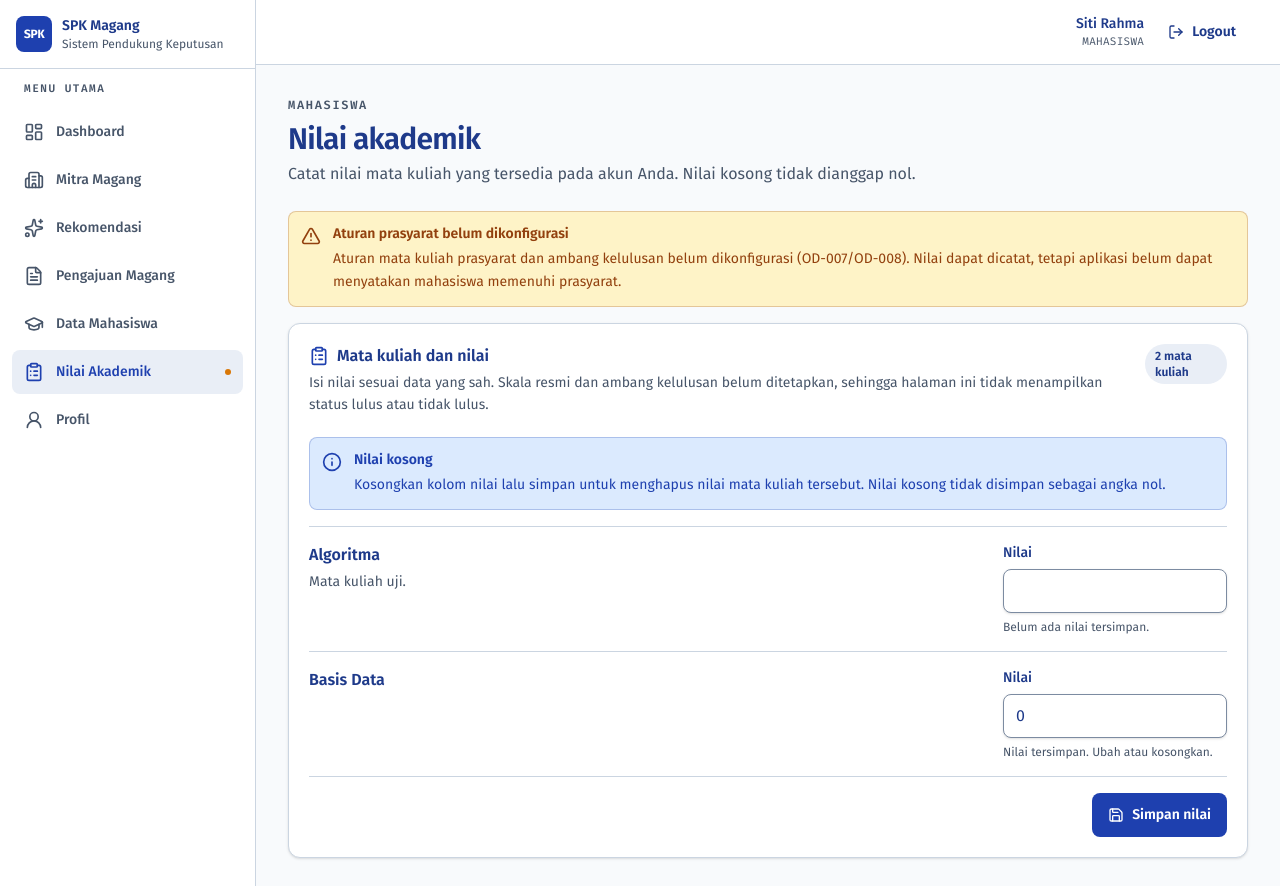
Test: StudentGradesPage › menolak nilai tidak valid sebelum memanggil API
In the number field labelled "Nilai" in the row of "Mata kuliah uji.": [1115, 591] box [1003,569,1227,613], type "101"
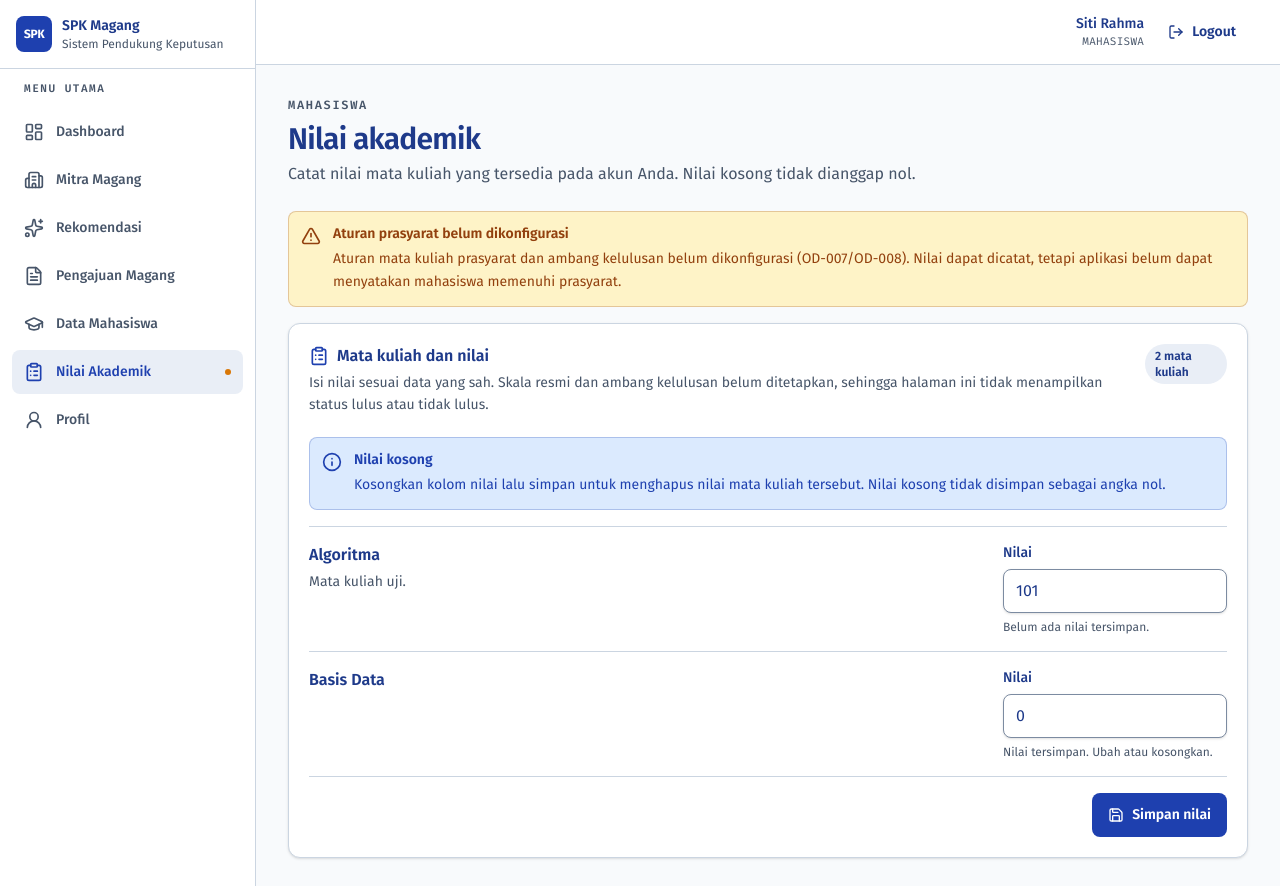
Click the button "Simpan nilai": [1160, 815] box [1092,793,1227,837]
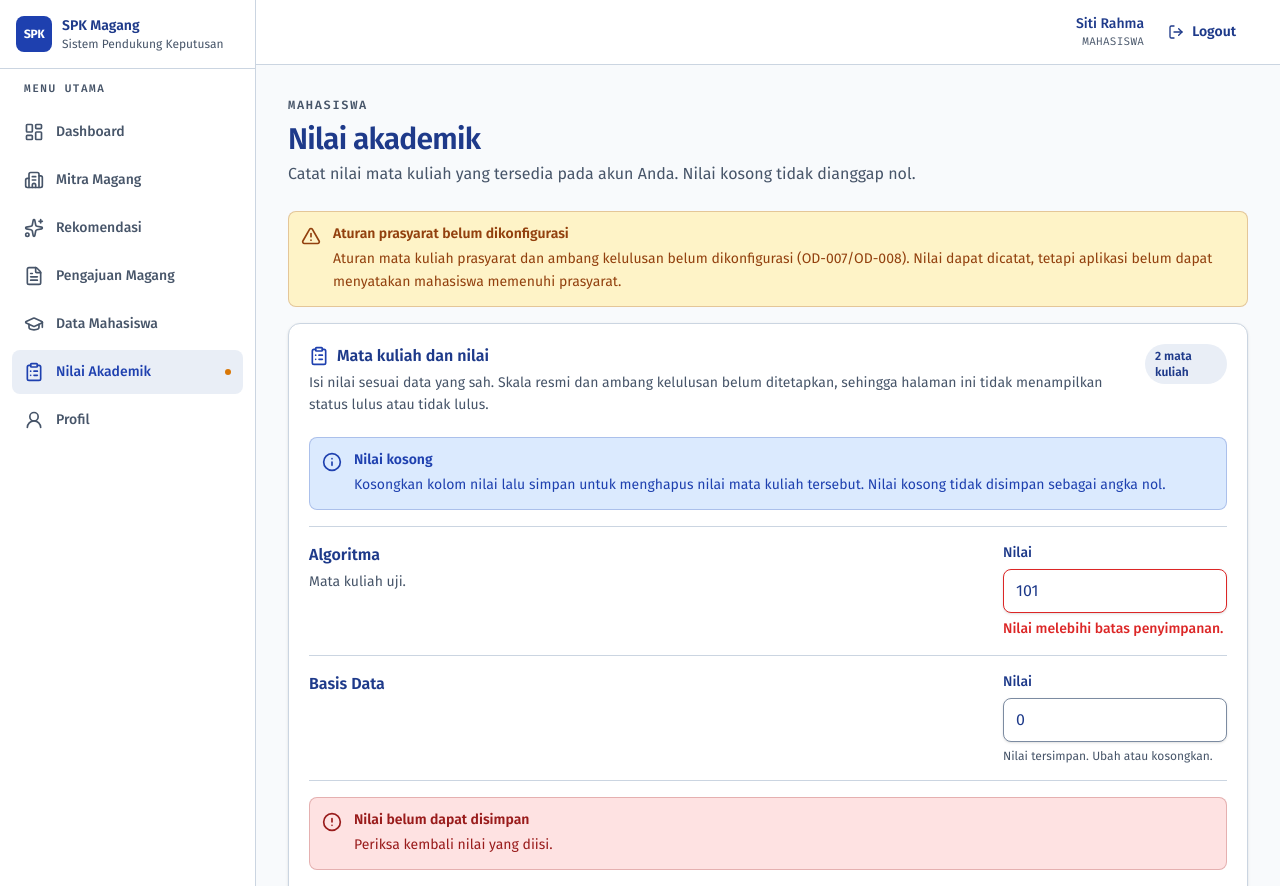
Result: the text "Nilai melebihi batas penyimpanan." is shown at [1003,619,1227,639]
